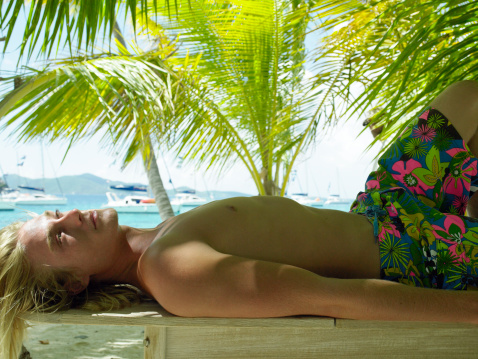deitado: (0, 146, 455, 347)
